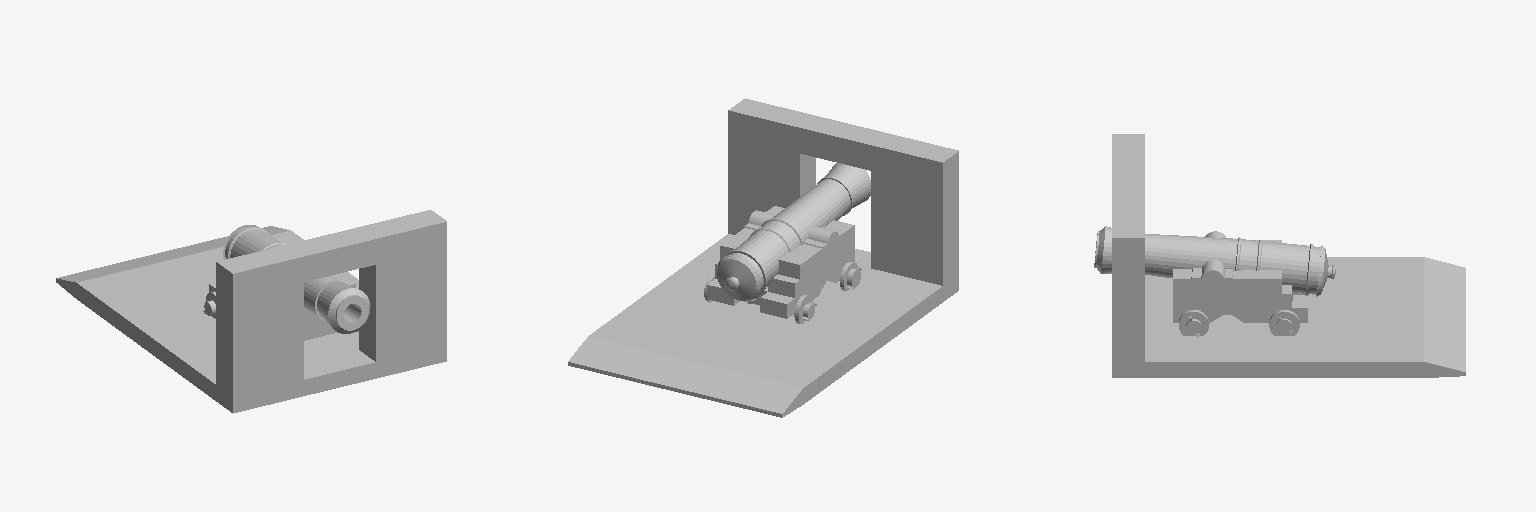
File: AGun.obj
3 views of the same model, side by side, from view 1: azimuth 30°, elevation 25°; view 2: azimuth 150°, elevation 25°; view 3: azimuth 270°, elevation 25° (orthographic).
Visible parts, largest first — view 1: Cube.001_Cube, Cylinder_Cylinder.002, Cube_Cube.003; view 2: Cube.001_Cube, Cylinder_Cylinder.002, Cube_Cube.003, Cylinder.001_Cylinder.003; view 3: Cube.001_Cube, Cylinder_Cylinder.002, Cube_Cube.003, Cylinder.001_Cylinder.003.
Boxes of the visible parts, x1=… form: Cube.001_Cube: x1=56, y1=210, x2=446, y2=413; Cylinder_Cylinder.002: x1=223, y1=225, x2=370, y2=333; Cube_Cube.003: x1=209, y1=277, x2=355, y2=340; Cube.001_Cube: x1=568, y1=98, x2=958, y2=417; Cylinder_Cylinder.002: x1=717, y1=163, x2=870, y2=301; Cube_Cube.003: x1=707, y1=206, x2=854, y2=318; Cylinder.001_Cylinder.003: x1=704, y1=262, x2=861, y2=323; Cube.001_Cube: x1=1112, y1=134, x2=1465, y2=377; Cylinder_Cylinder.002: x1=1094, y1=226, x2=1335, y2=296; Cube_Cube.003: x1=1173, y1=240, x2=1307, y2=322; Cylinder.001_Cylinder.003: x1=1179, y1=310, x2=1299, y2=336.
Bounding box in the file's own units: 10.19 × 6.34 × 15.27.